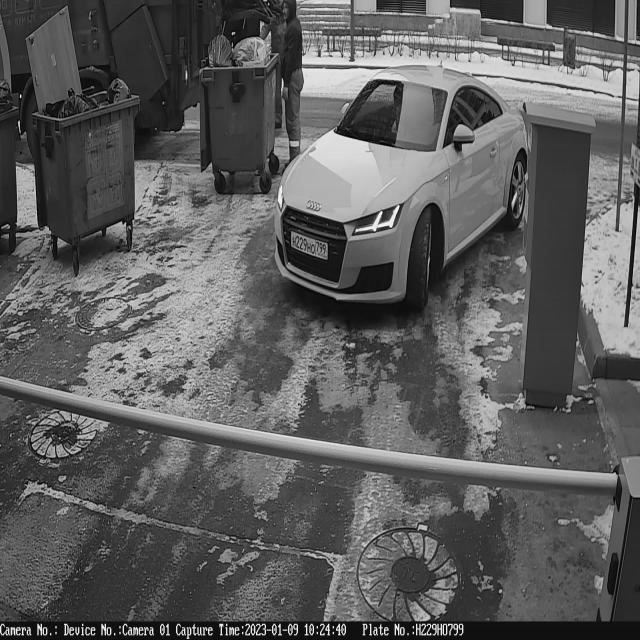car-plate-numbers: (287, 226, 331, 267)
